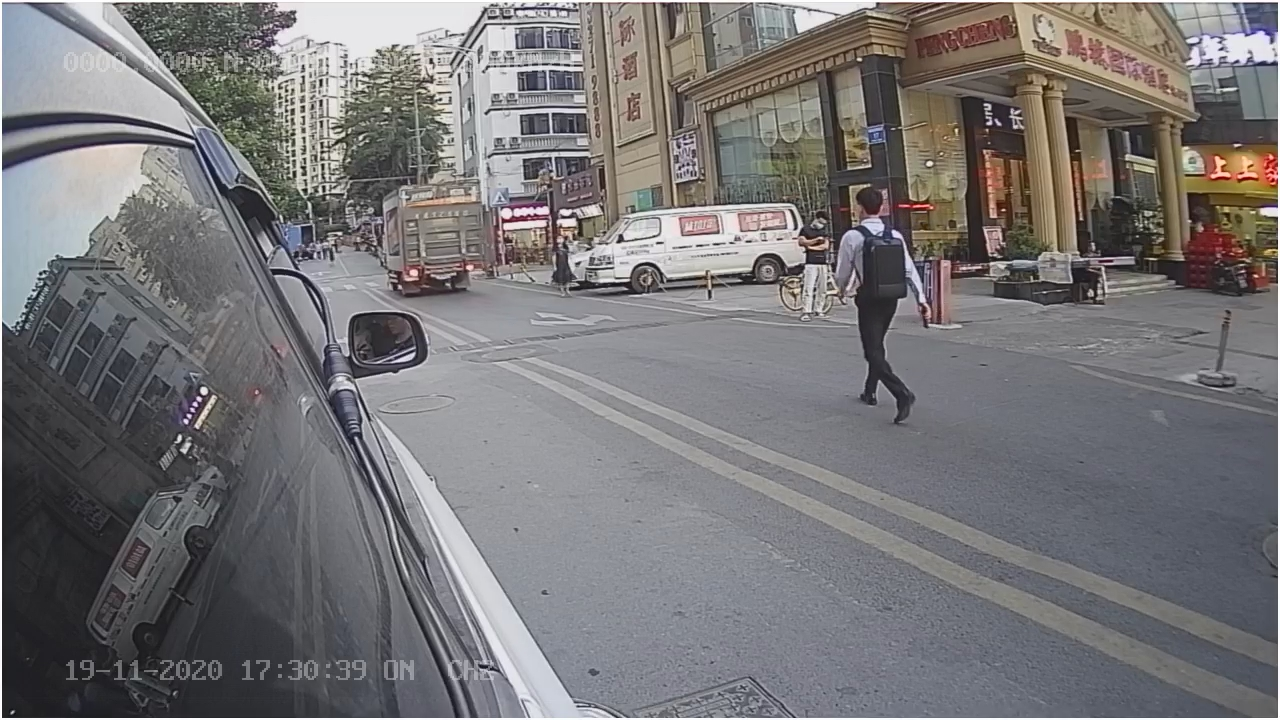person: (834, 183, 934, 421)
